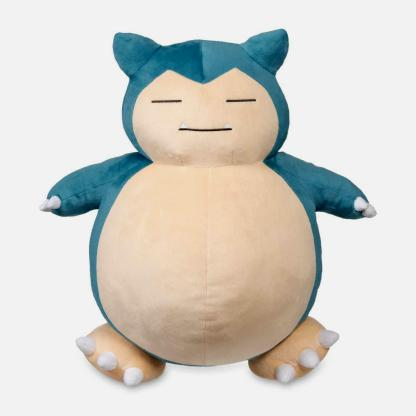Relaxo: (0, 0, 415, 407)
